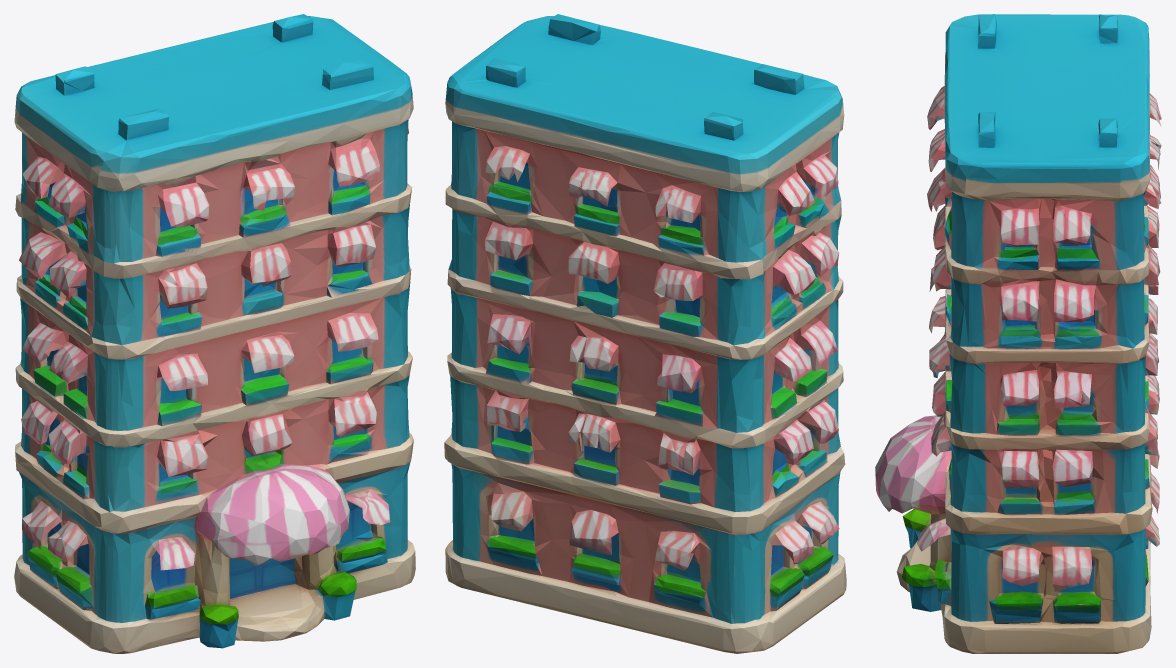
The model's file is hotel_beach.glb.
The picture shows the model from 3 angles, left to right: view 1: azimuth 30°, elevation 25°; view 2: azimuth 150°, elevation 25°; view 3: azimuth 270°, elevation 25°; orthographic projection.
Visible parts, largest first — view 1: geometry_0; view 2: geometry_0; view 3: geometry_0.
Boxes of the visible parts, <box> form: geometry_0: <box>14,14,415,653</box>; geometry_0: <box>444,14,846,653</box>; geometry_0: <box>875,14,1161,653</box>.
Size of the model in its own units: 0.7077 by 1 by 0.5149.
1 material, 1 textured.
